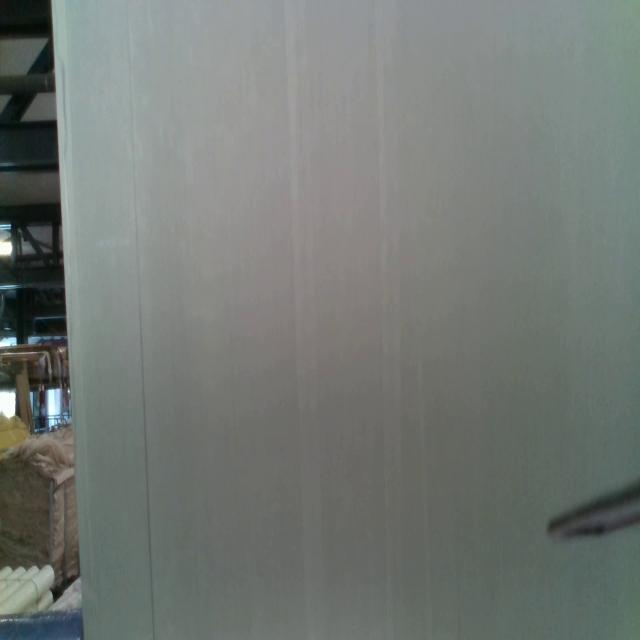crease: (126, 1, 157, 640)
